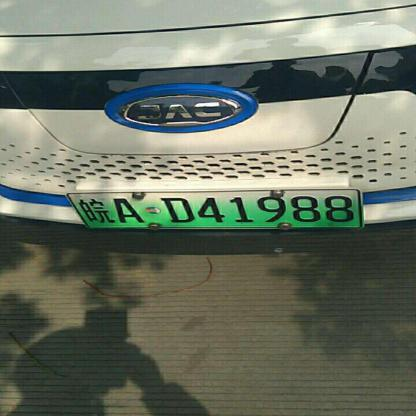lp: (68, 190, 360, 227)
